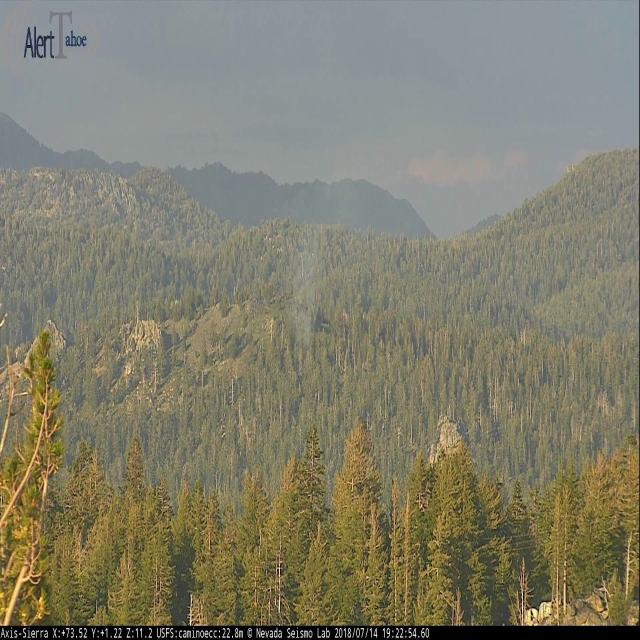smoke: (294, 161, 373, 352)
